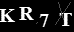7: (38, 13, 50, 28)
K: (1, 7, 15, 23)
R: (17, 6, 34, 21)
T: (57, 12, 74, 27)
